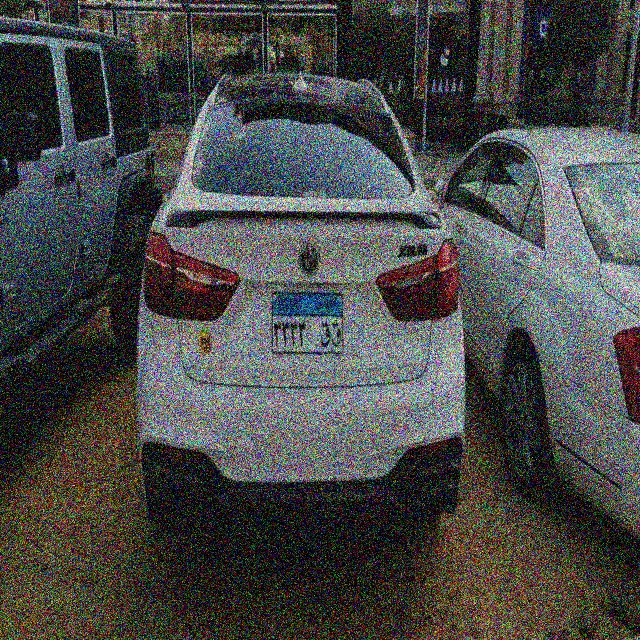License Plate: (268, 287, 346, 358)
